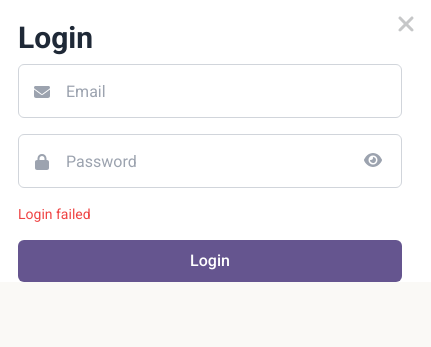
Test: LoginForm Component › shows validation errors for incorrect input
Click the button "Login".
click(210, 261)  # box [18, 240, 402, 282]
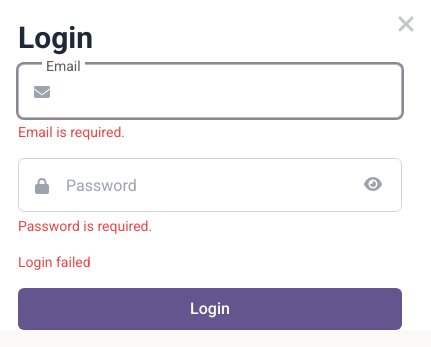
Expected: the text "Email is required." is shown, [18, 124, 125, 140]
Expected: the text "Password is required." is shown, [18, 218, 152, 234]
